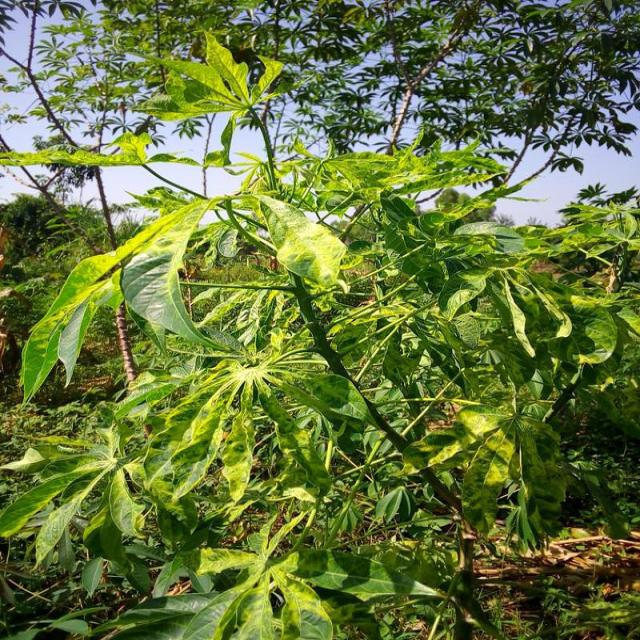cassava leaf: (258, 192, 350, 294)
